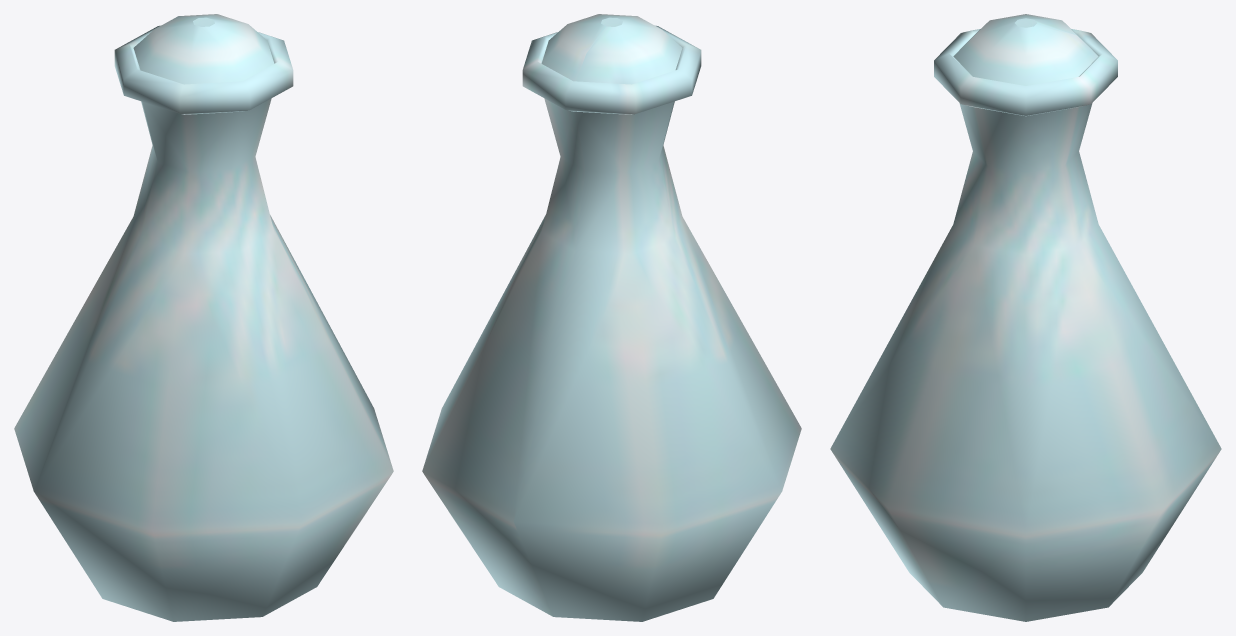
The model's file is flask.fbx.
3 views of the same model, side by side, from view 1: azimuth 30°, elevation 25°; view 2: azimuth 150°, elevation 25°; view 3: azimuth 270°, elevation 25° (orthographic).
Visible parts, largest first — view 1: flaconw; view 2: flaconw; view 3: flaconw.
Part boxes in pixels (<box>): flaconw: <box>14,14,393,621</box>; flaconw: <box>422,14,801,621</box>; flaconw: <box>830,14,1221,621</box>.
Size of the model in its own units: 19.19 by 29.72 by 19.19.
